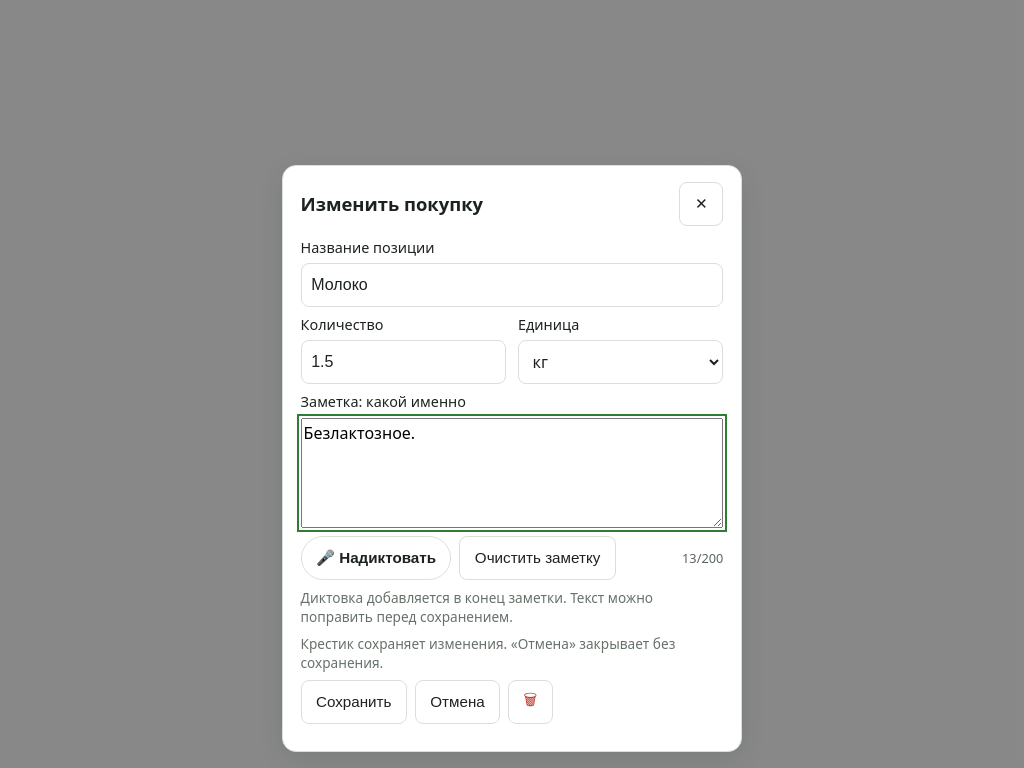
quantity editor › requires whole pieces and preserves the invalid draft
The width and height of the screenshot is (1024, 768).
Step 1. Select "шт." in the dropdown labelled "Единица" → (621, 362), box left=518, top=340, right=723, bottom=384
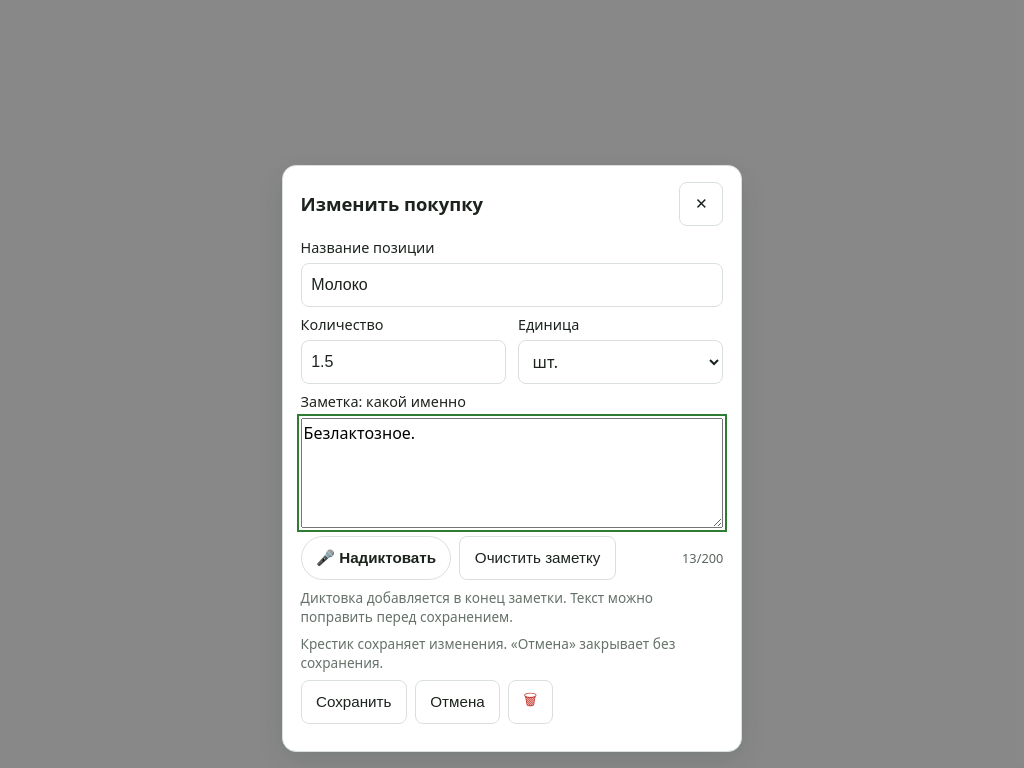
Step 2. Click the button "Сохранить" → (354, 702), box left=301, top=680, right=407, bottom=724
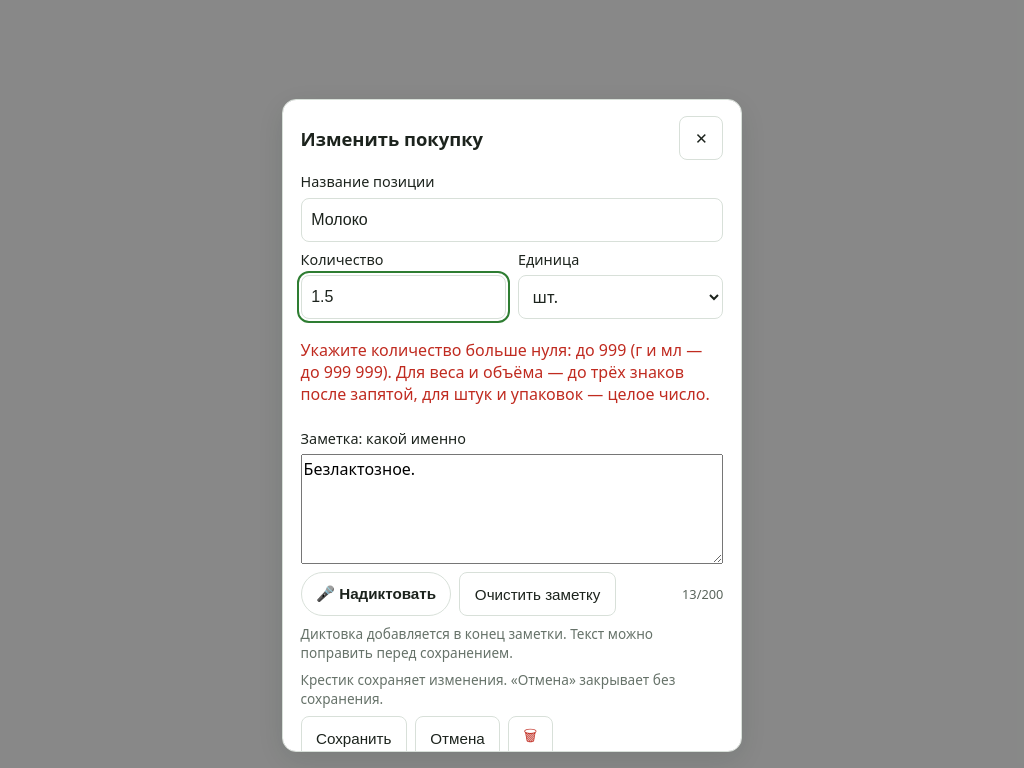
Result: the message shows "целое число" at left=301, top=339, right=710, bottom=405
